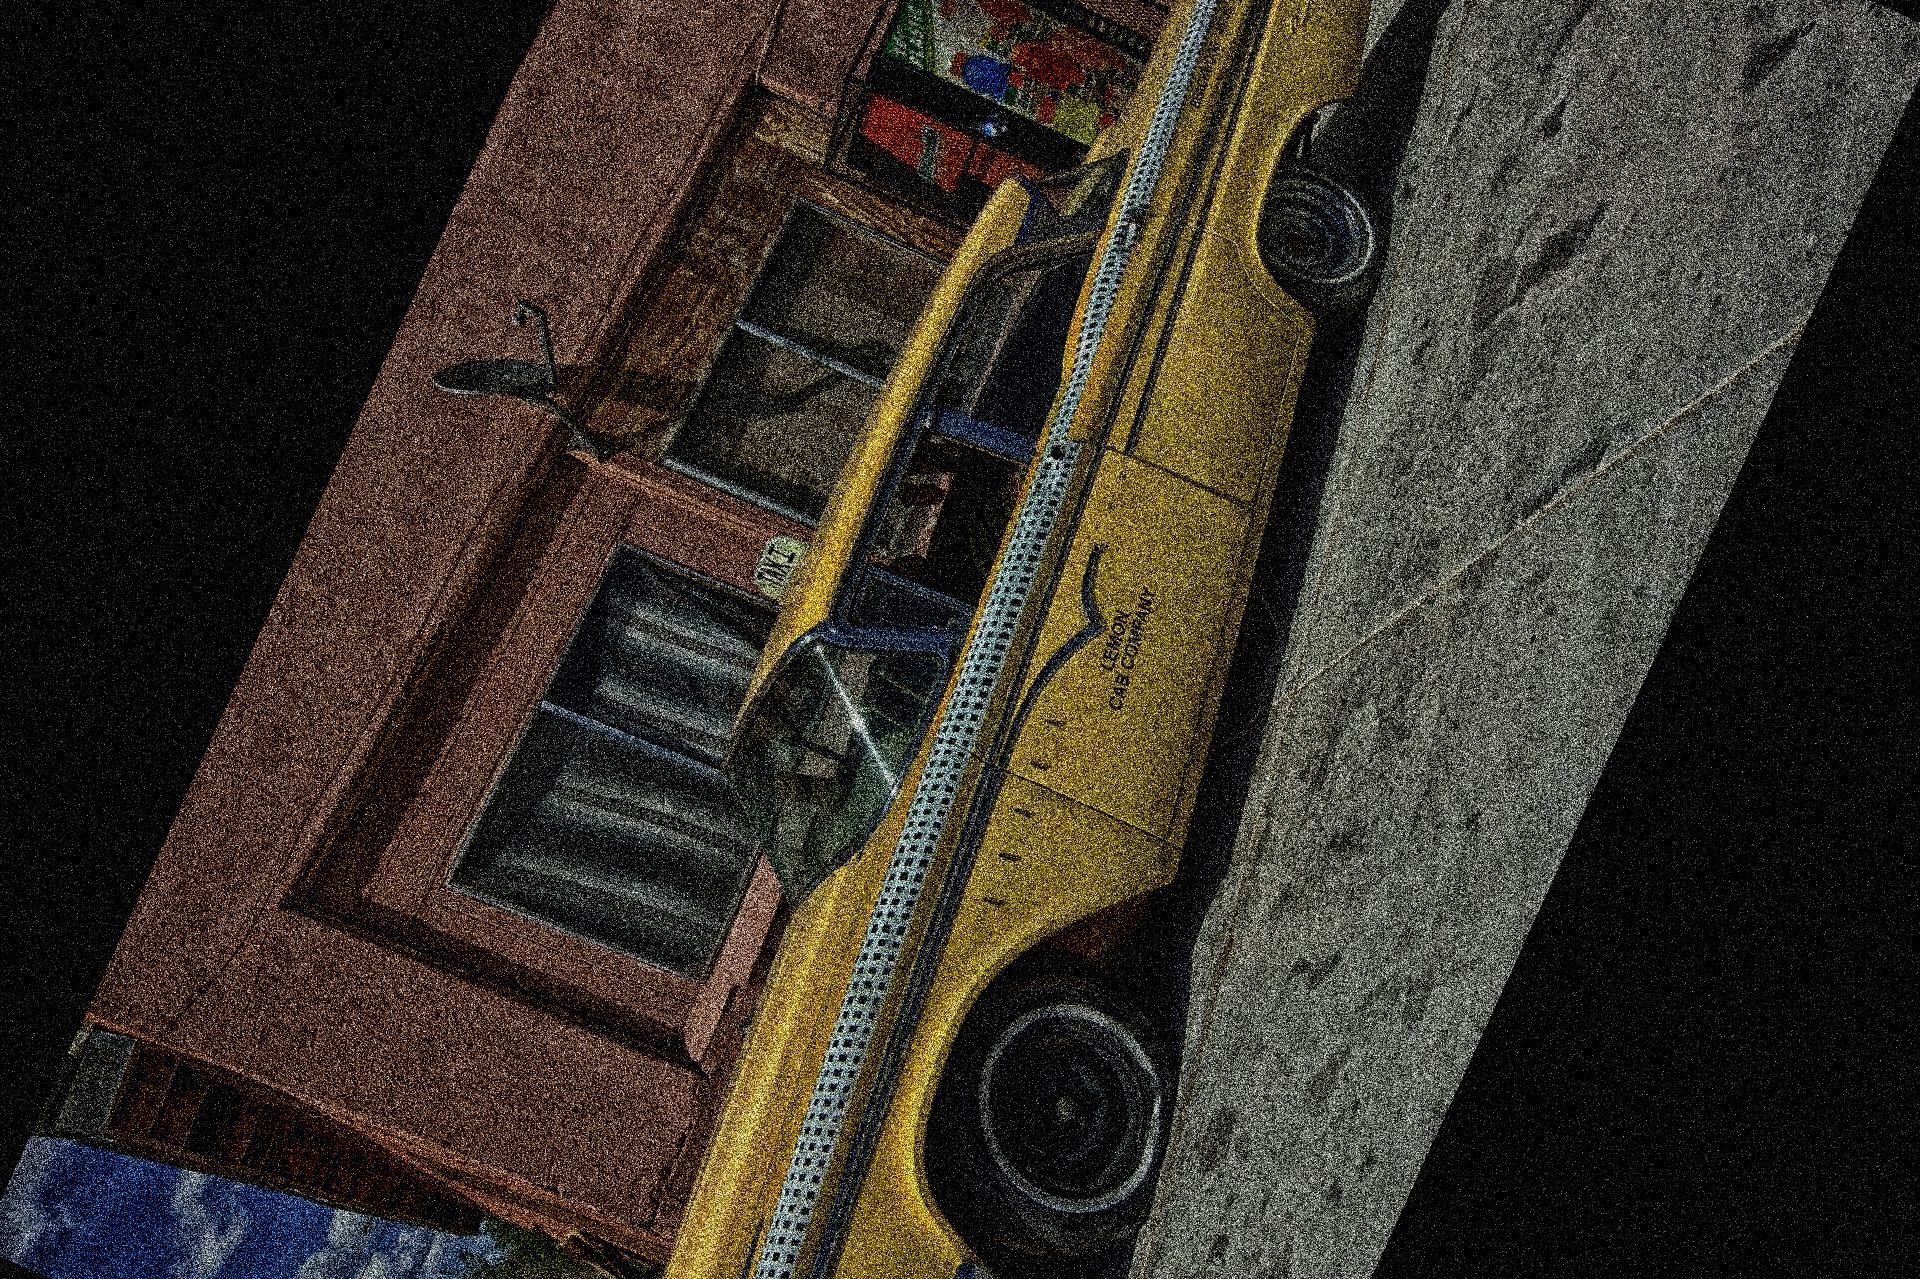taxi: (670, 6, 1355, 1276)
